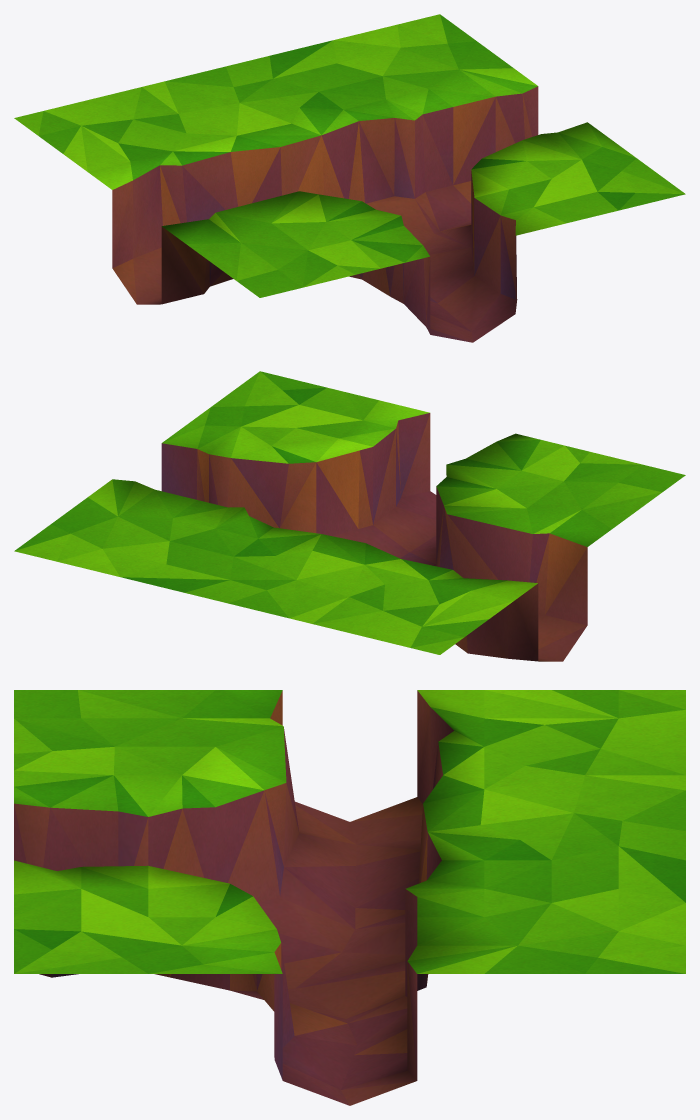
Rendered from Terrain-part-05.fbx.
3 views of the same model, one above another, from view 1: azimuth 30°, elevation 25°; view 2: azimuth 150°, elevation 25°; view 3: azimuth 270°, elevation 25° (orthographic). The views are drawn at different scales.
Parts seen in each view (by area): view 1: Terrain-part-05; view 2: Terrain-part-05; view 3: Terrain-part-05.
Part boxes in pixels (x1,y1,x2,y2): Terrain-part-05: [14, 14, 685, 342]; Terrain-part-05: [14, 371, 685, 661]; Terrain-part-05: [14, 690, 685, 1105].
Size of the model in its own units: 6 by 1.3 by 6.
